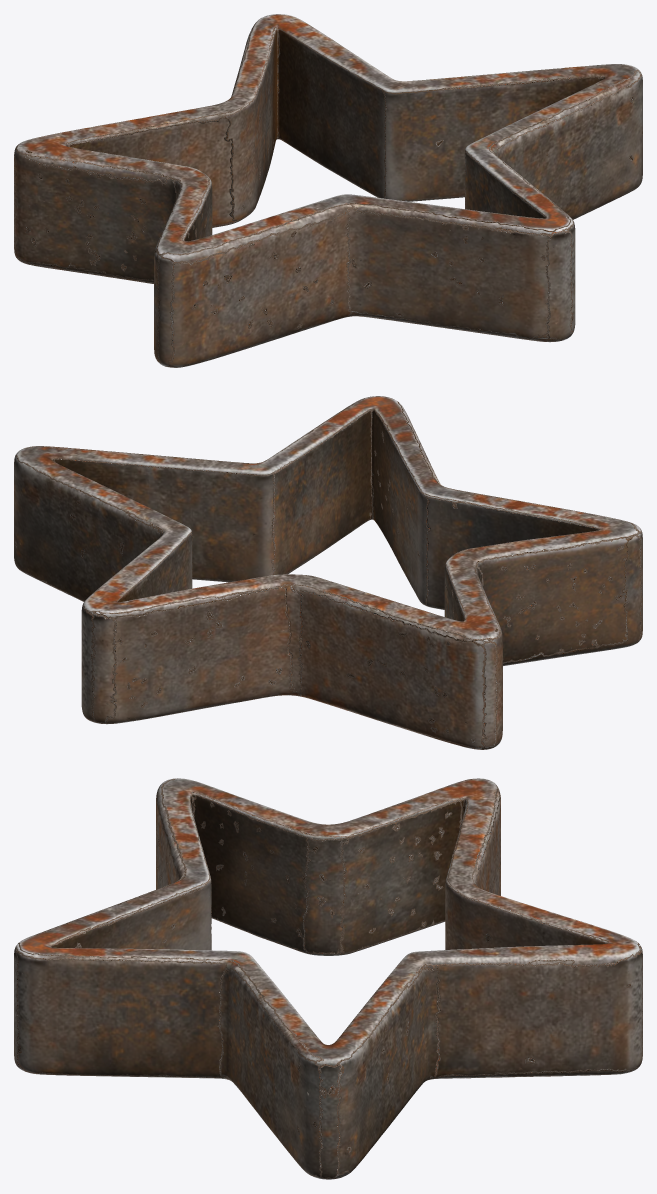
3 renders of one model, top to bottom at view 1: azimuth 30°, elevation 25°; view 2: azimuth 150°, elevation 25°; view 3: azimuth 270°, elevation 25°, orthographic. The views are drawn at different scales.
Bounding box in the file's own units: 1.8 × 0.3535 × 1.67.
Materials: 1 (1 with a texture image).
